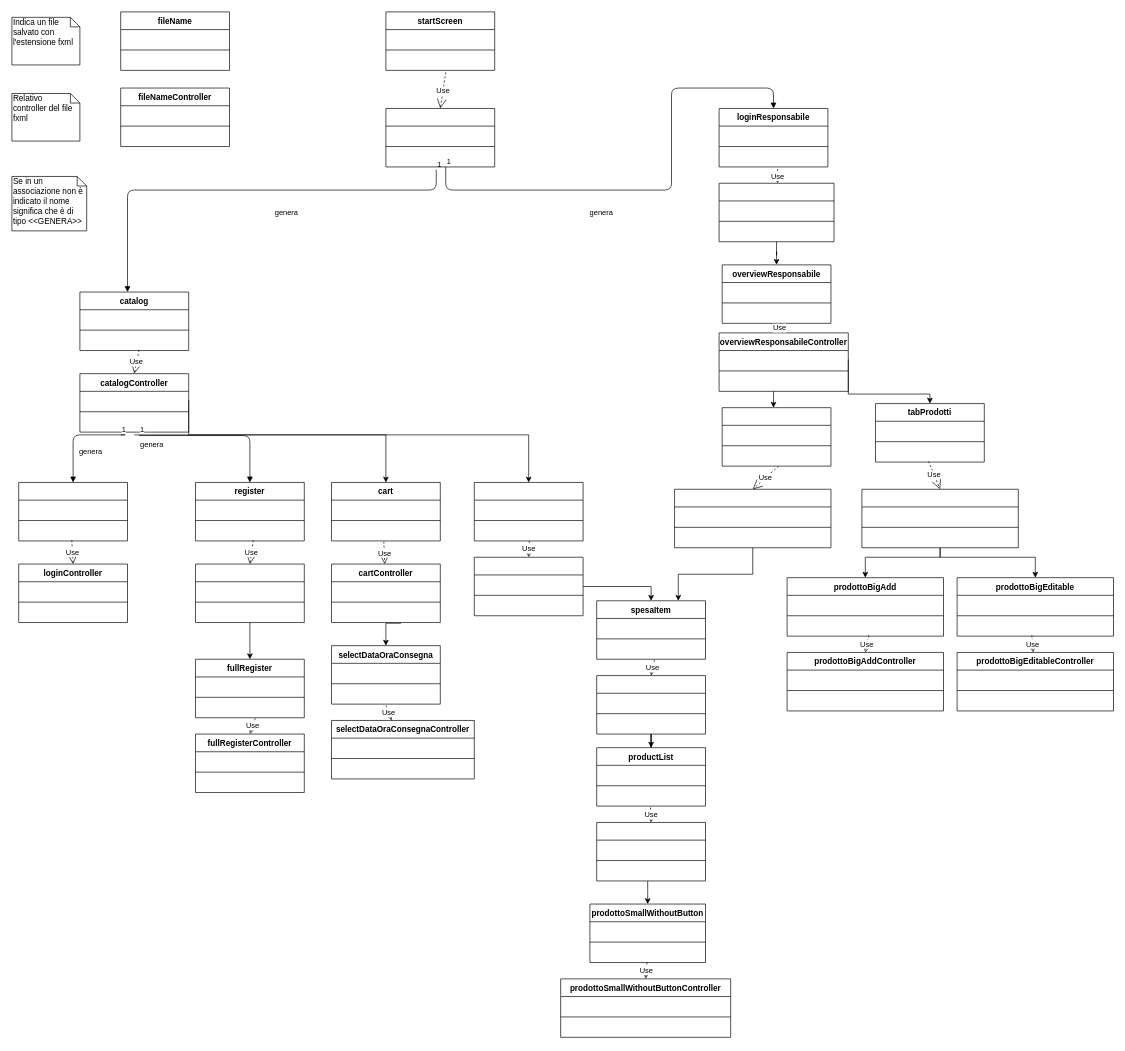
The diagram is 1125 pixels wide and 1051 high, and some of its shapes have lost their labels. Each missing label, with the box of its shape:
login: (18, 482, 128, 541)
loginResponsabileController: (718, 183, 834, 242)
overviewResponsabileProdottiController: (861, 489, 1018, 548)
overviewResponsabileSpeseController: (674, 489, 831, 548)
overviewUtente: (474, 482, 583, 541)
overviewUtenteController: (474, 557, 583, 616)
productListController: (596, 822, 706, 881)
registerController: (195, 563, 304, 623)
spesaItemController: (596, 675, 706, 734)
startScreenController: (385, 108, 495, 167)
TabSpese: (721, 407, 831, 466)
